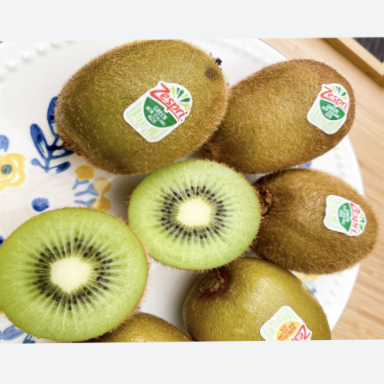kiwi: (55, 32, 243, 192), (194, 59, 373, 173), (243, 160, 383, 287)
